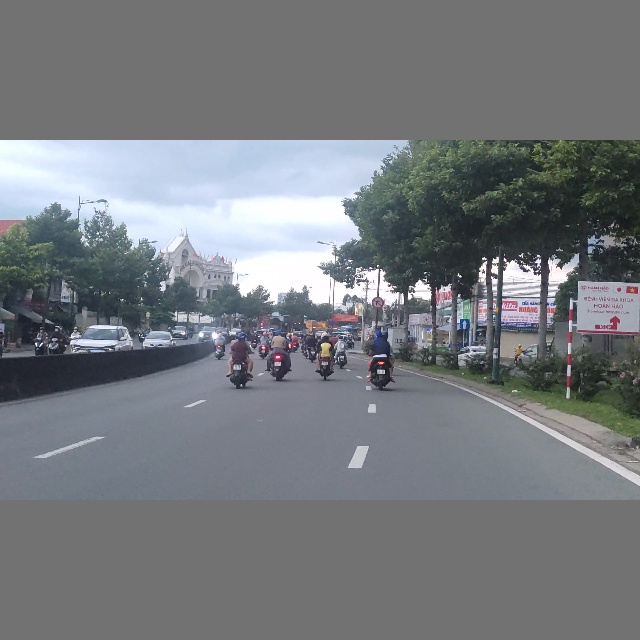I.407a: (460, 319, 470, 329)
P.123b: (372, 297, 384, 309)
